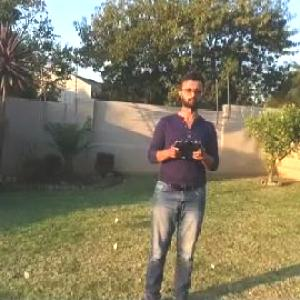follow: (133, 65, 224, 299)
